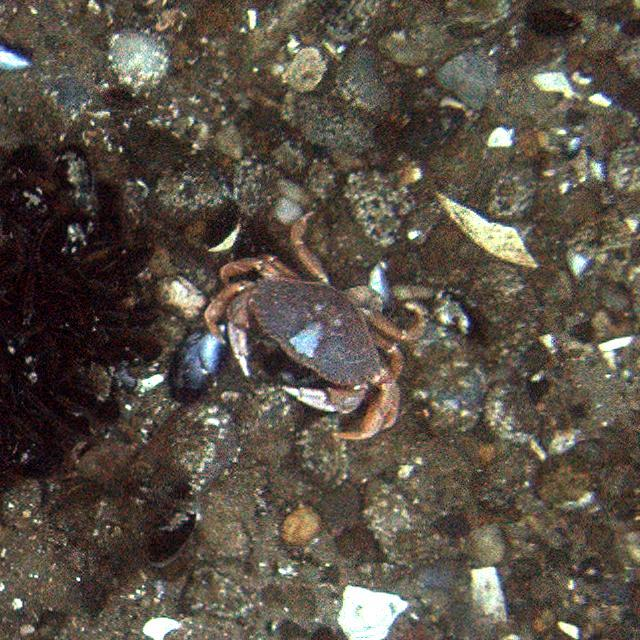crab: (203, 224, 423, 440)
